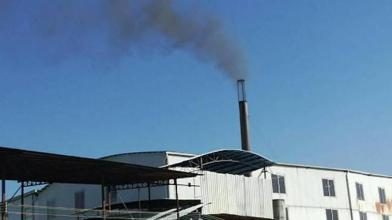smoke: (113, 1, 254, 99)
